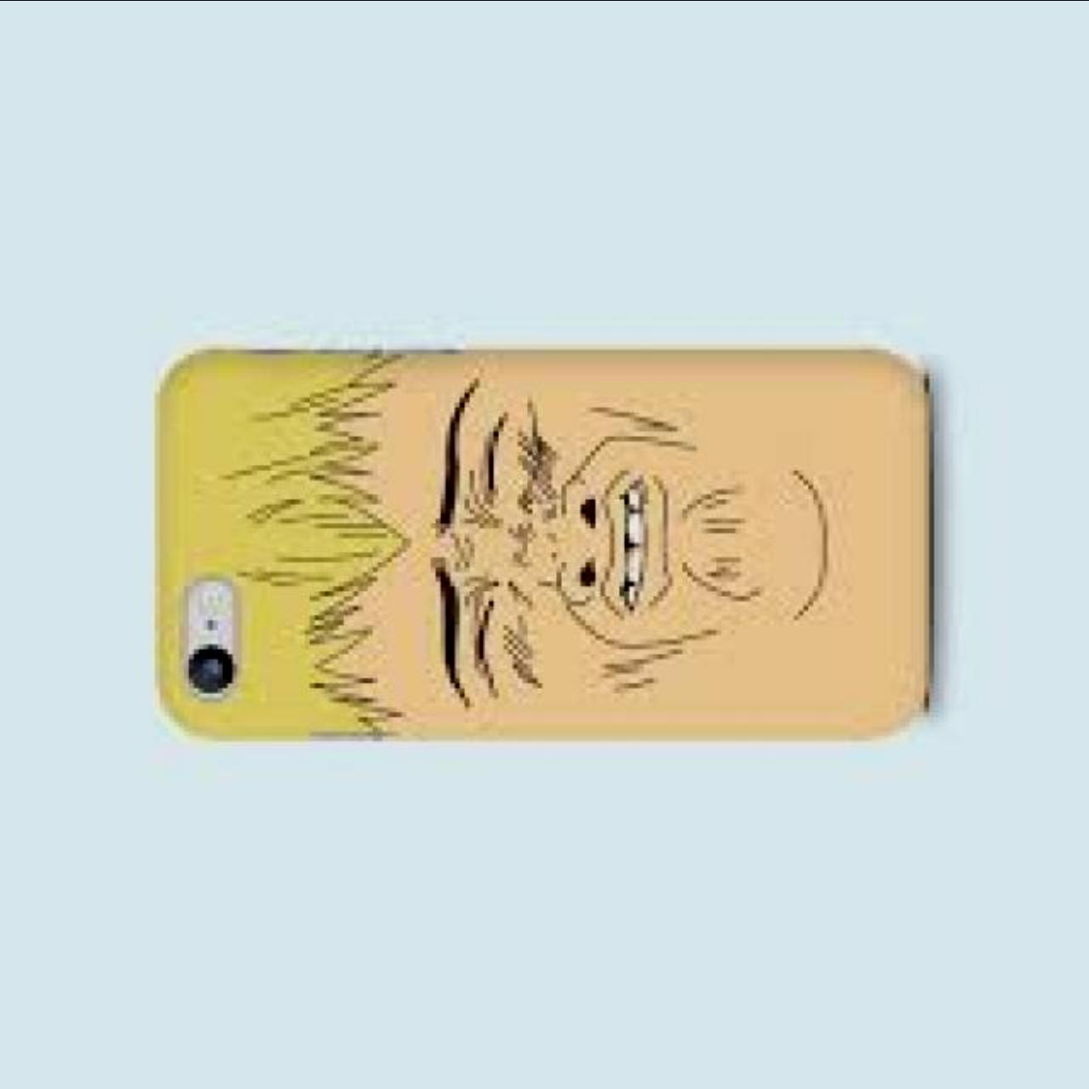phone: (138, 330, 946, 750)
